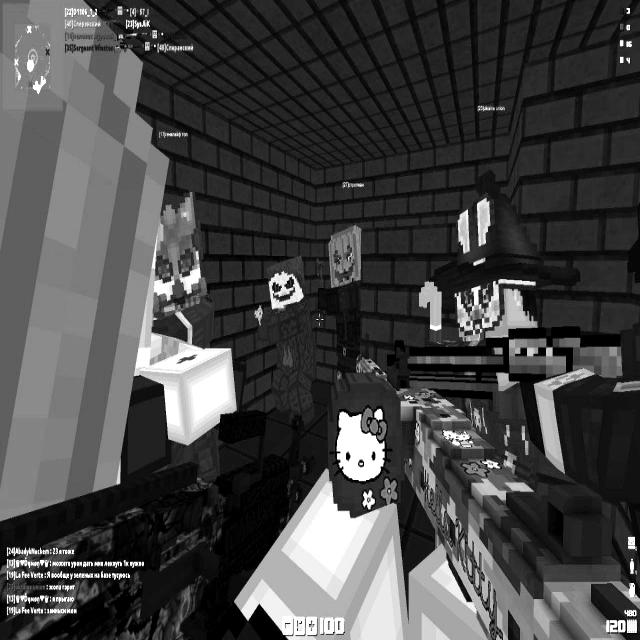Head: (0, 0, 145, 487), (455, 244, 532, 348), (148, 214, 203, 301), (267, 257, 305, 306), (329, 233, 361, 284)
Player: (422, 184, 582, 350), (255, 252, 317, 432), (316, 226, 368, 373)
